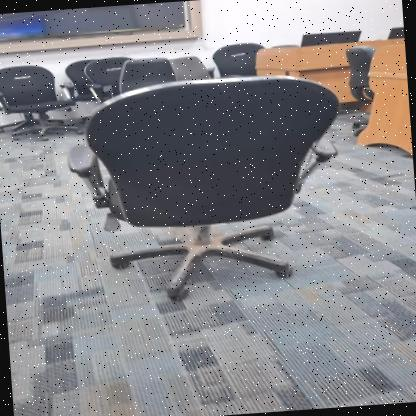chair: (57, 61, 361, 312)
